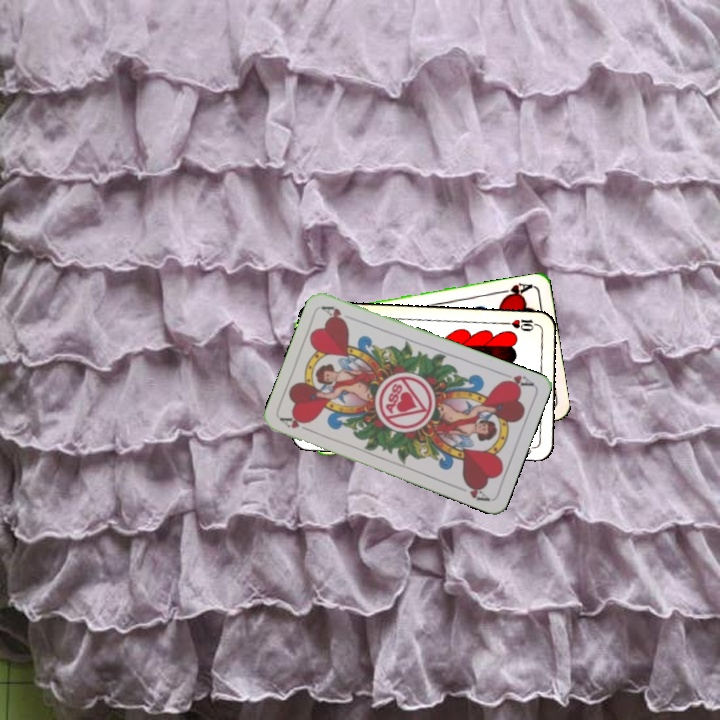H10: (501, 315, 541, 334)
HA: (494, 279, 535, 302), (496, 368, 536, 391), (277, 413, 316, 435)
